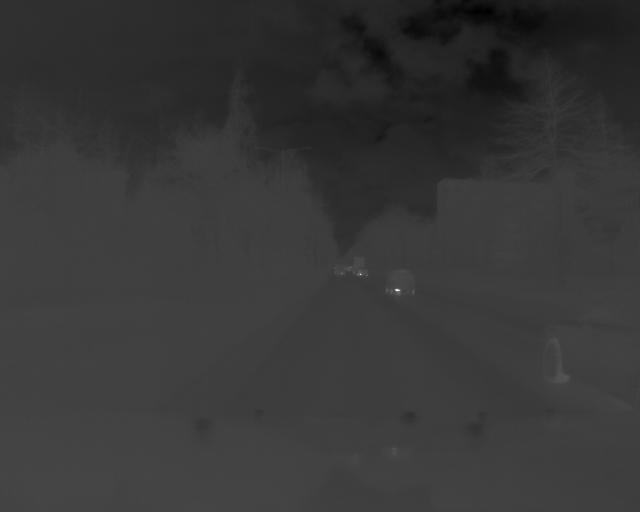car: (537, 278, 640, 404), (380, 260, 418, 305)
